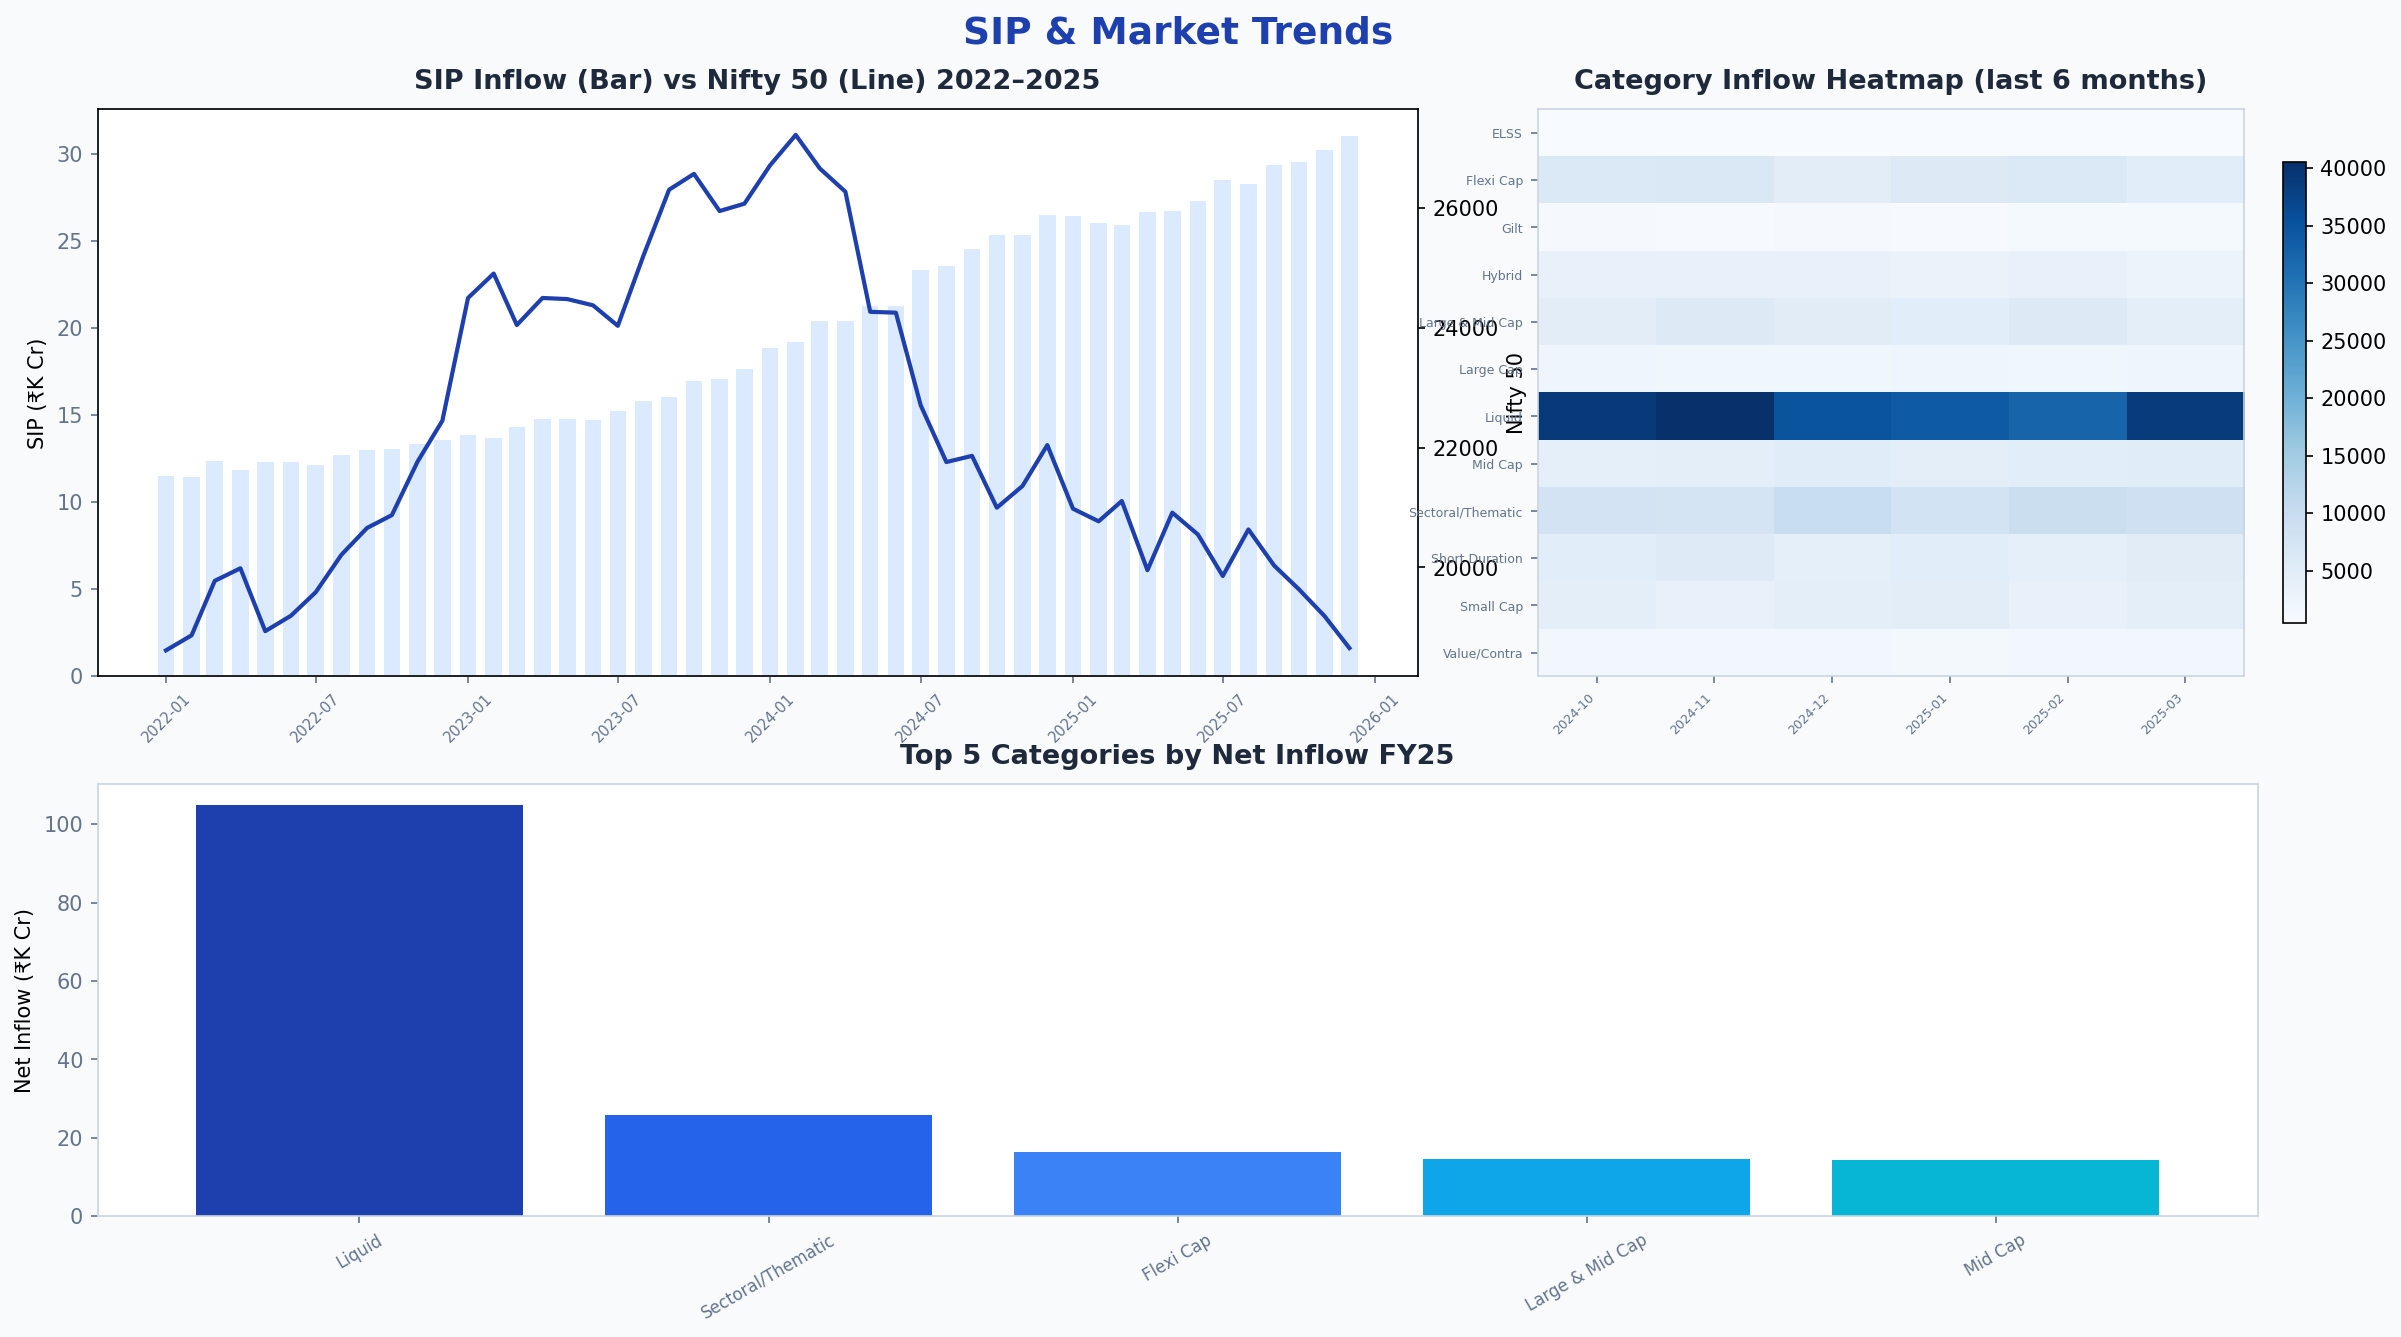

This screenshot's page, from the dashboard's own definition file:
{"tool":"powerbi","page":{"name":"SIP & Market Trends","canvas":[1280,720],"ordinal":3},"visuals":[{"type":"image","box":[1100,0,160,50]},{"type":"clusteredColumnChart","fields":{"Category":["sip_nifty.month"],"Y":["sip_nifty.SIP Inflow"]},"box":[20,20,700,350]},{"type":"lineChart","fields":{"Category":["sip_nifty.month"],"Y":["sip_nifty.Nifty 50 Close"]},"box":[20,20,700,350]},{"type":"matrix","fields":{"Values":["category_inflows.category","category_inflows.month","category_inflows.net_inflow_crore"]},"box":[740,20,520,350]},{"type":"clusteredBarChart","fields":{"Category":["category_fy25.category"],"Y":["category_fy25.FY25 Net Inflow"]},"box":[20,390,1240,320]}]}

Visuals, with their boxes in screenshot pixels (x1, y1, x2, y2), scaled from the page's 1280x720 canvas onto the 2401x1337 screenshot:
image: {"left": 2063, "top": 0, "right": 2363, "bottom": 93}
clusteredColumnChart - sip_nifty.month x sip_nifty.SIP Inflow: {"left": 38, "top": 37, "right": 1351, "bottom": 687}
lineChart - sip_nifty.month x sip_nifty.Nifty 50 Close: {"left": 38, "top": 37, "right": 1351, "bottom": 687}
matrix - category_inflows.category x category_inflows.month: {"left": 1388, "top": 37, "right": 2363, "bottom": 687}
clusteredBarChart - category_fy25.category x category_fy25.FY25 Net Inflow: {"left": 38, "top": 724, "right": 2363, "bottom": 1318}
